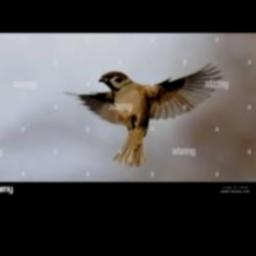Sparrow: (63, 62, 221, 167)
